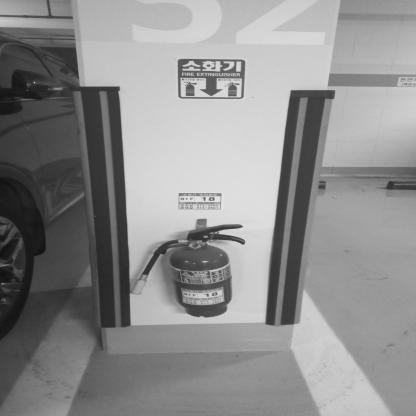FE: (131, 222, 247, 318)
